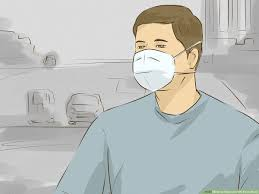mask: (130, 7, 196, 98)
